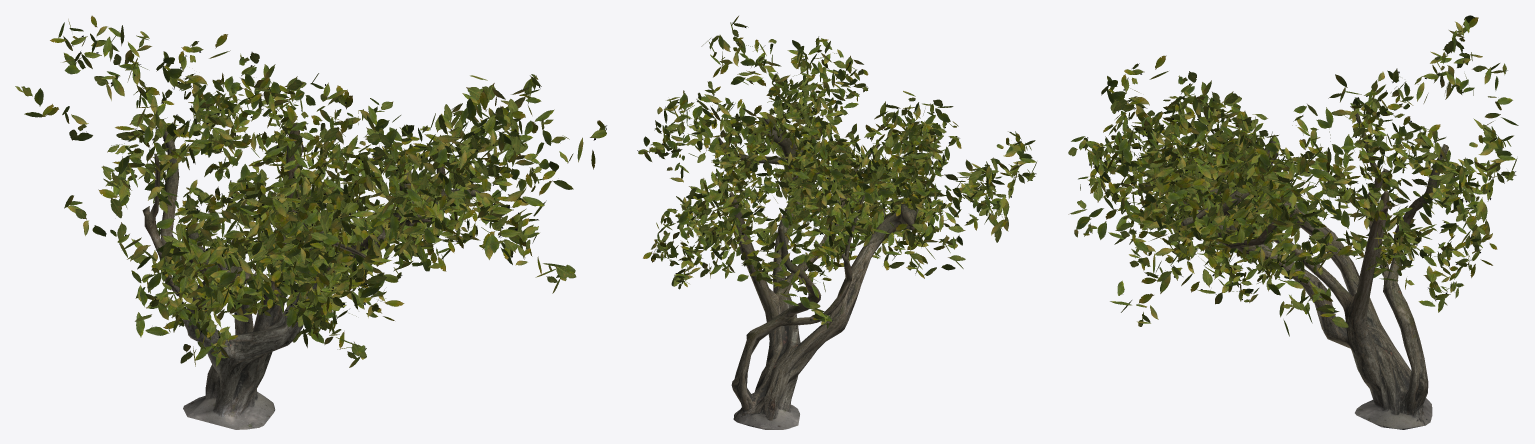
File: tree.glb
3 views of the same model, side by side, from view 1: azimuth 30°, elevation 25°; view 2: azimuth 150°, elevation 25°; view 3: azimuth 270°, elevation 25° (orthographic). The views are drawn at different scales.
Visible parts, largest first — view 1: island_tree_02_web_canopy; view 2: island_tree_02_web_canopy; view 3: island_tree_02_web_canopy.
Part boxes in pixels (box(x1,y1,x2,y2)): island_tree_02_web_canopy: box(15, 15, 606, 429); island_tree_02_web_canopy: box(637, 16, 1036, 429); island_tree_02_web_canopy: box(1068, 15, 1518, 429).
Size of the model in its own units: 3.93 by 3.43 by 4.05.
2 materials, 2 textured.
